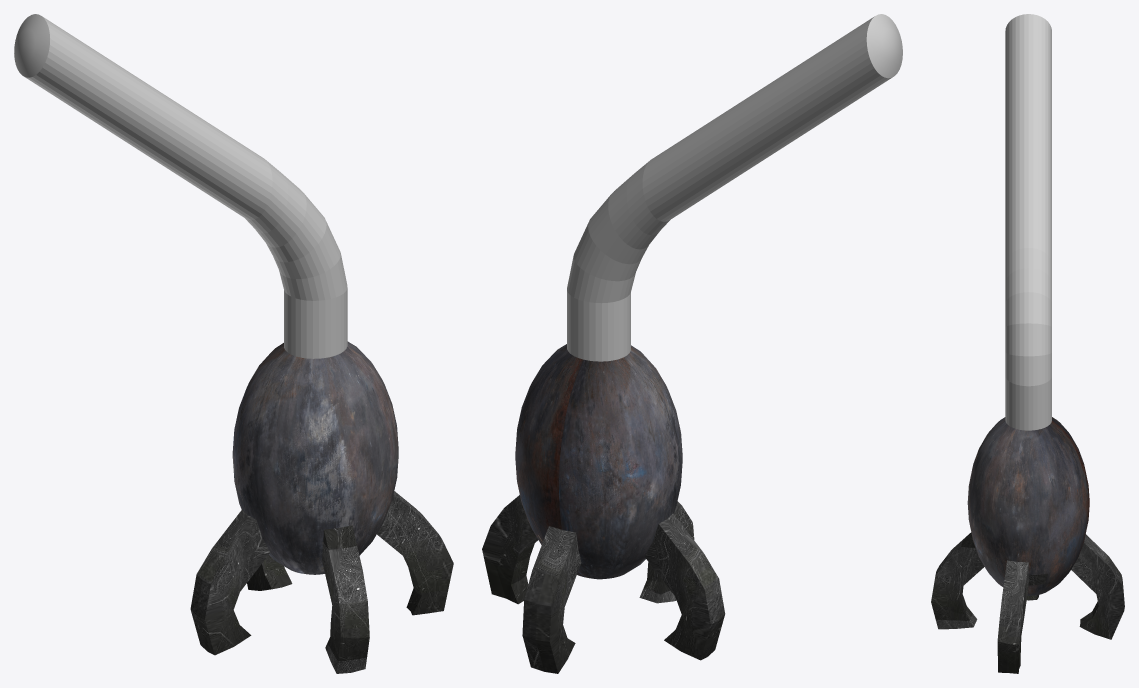
Rendered from Simple_Arm.FBX.
The picture shows the model from 3 angles, left to right: view 1: azimuth 30°, elevation 25°; view 2: azimuth 150°, elevation 25°; view 3: azimuth 270°, elevation 25°; orthographic projection. The views are drawn at different scales.
Visible parts, largest first — view 1: Arm, Hand, Claw4, Claw3, Claw2, Claw1; view 2: Hand, Arm, Claw4, Claw1, Claw2, Claw3; view 3: Arm, Hand, Claw1, Claw3, Claw2.
Part boxes in pixels (left/top/right/bottom): Arm: left=14, top=14, right=347, bottom=358; Hand: left=232, top=341, right=398, bottom=574; Claw4: left=190, top=509, right=270, bottom=655; Claw3: left=322, top=525, right=369, bottom=673; Claw2: left=377, top=491, right=453, bottom=615; Claw1: left=247, top=555, right=292, bottom=590; Hand: left=515, top=344, right=682, bottom=579; Arm: left=567, top=14, right=902, bottom=361; Claw4: left=645, top=513, right=725, bottom=660; Claw1: left=522, top=526, right=581, bottom=673; Claw2: left=482, top=495, right=537, bottom=604; Claw3: left=639, top=501, right=694, bottom=603; Arm: left=1005, top=14, right=1051, bottom=430; Hand: left=967, top=417, right=1089, bottom=595; Claw1: left=1071, top=534, right=1124, bottom=639; Claw3: left=931, top=532, right=984, bottom=629; Claw2: left=997, top=560, right=1047, bottom=673.
Size of the model in its own units: 37.45 by 19.7 by 58.22.
